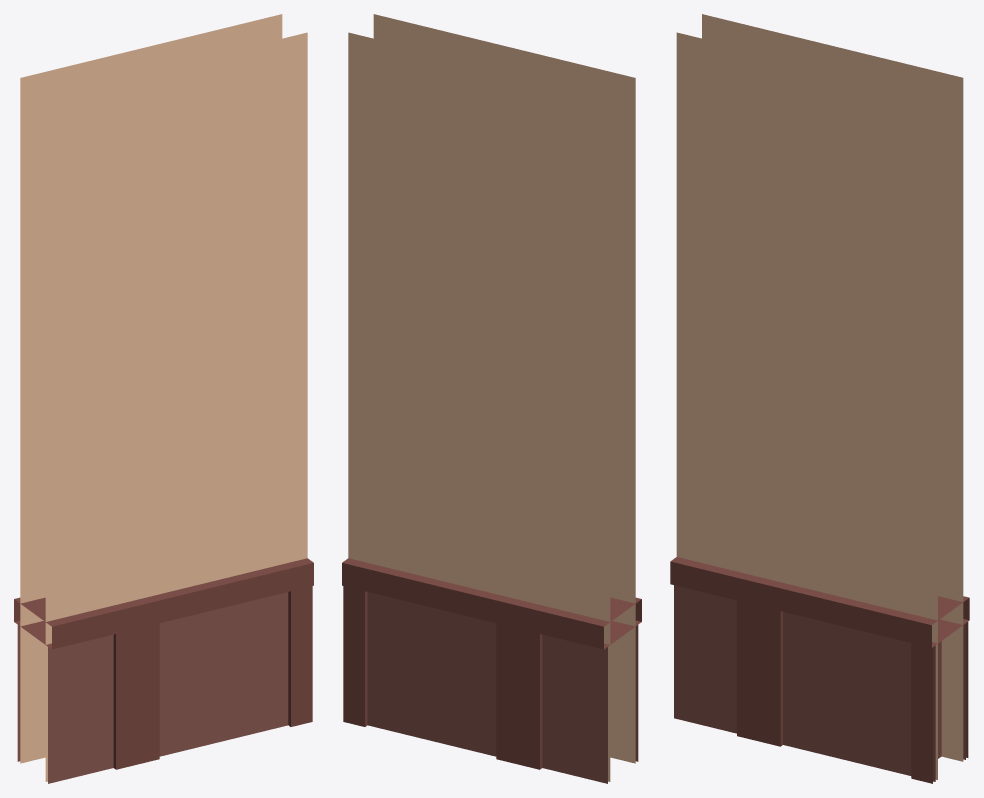
The model's file is WallNarrow_2.fbx.
3 views of the same model, side by side, from view 1: azimuth 30°, elevation 25°; view 2: azimuth 150°, elevation 25°; view 3: azimuth 330°, elevation 25° (orthographic).
Visible parts, largest first — view 1: WallNarrow_2; view 2: WallNarrow_2; view 3: WallNarrow_2.
Part boxes in pixels (x1,y1,x2,y2): WallNarrow_2: (14, 14, 313, 783); WallNarrow_2: (342, 14, 641, 783); WallNarrow_2: (670, 14, 969, 783).
Size of the model in its own units: 1.2 by 0.3 by 3.
